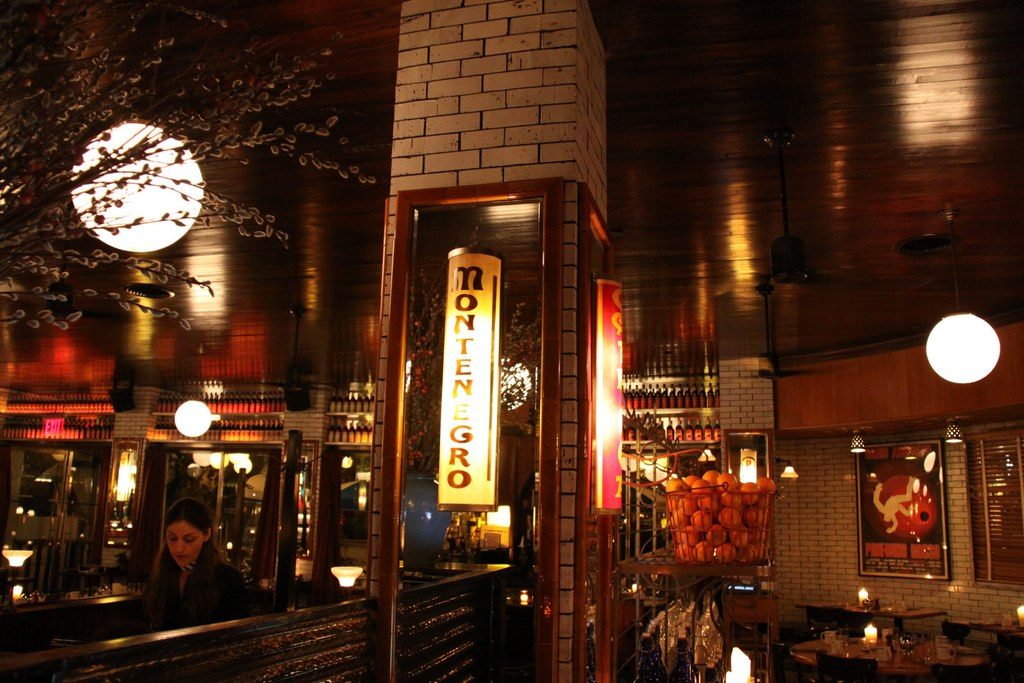Table: (790, 634, 990, 682)
